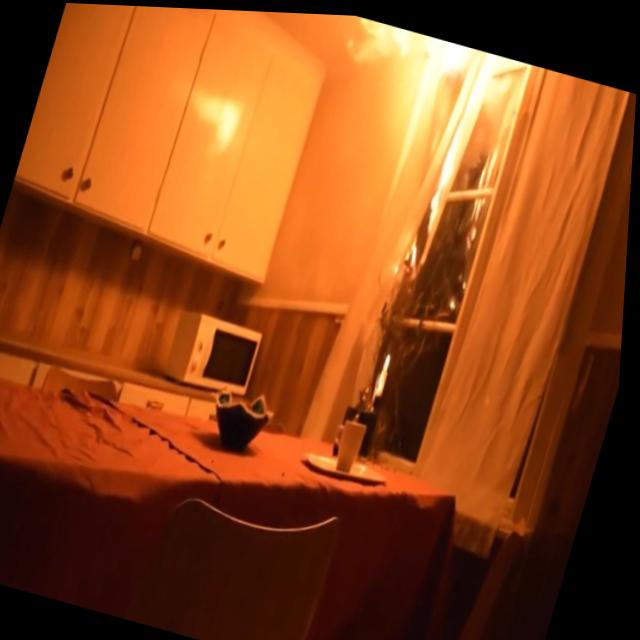fire: (305, 11, 509, 181), (383, 345, 398, 369)
